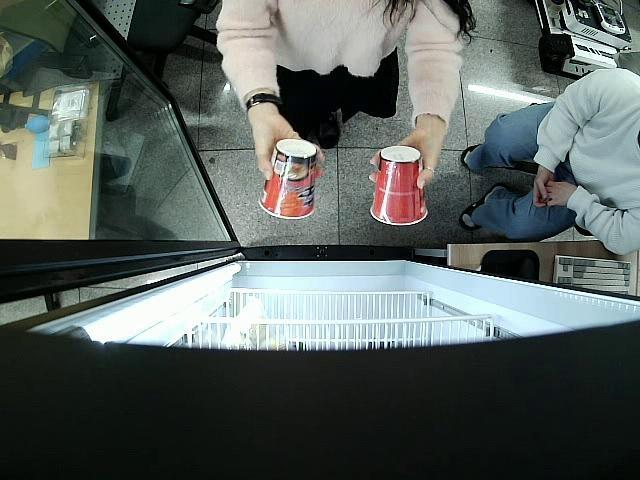02_shinRamen_S: (258, 140, 320, 219), (371, 145, 428, 226)
